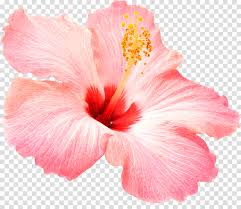hybiscus: (3, 1, 241, 202)
